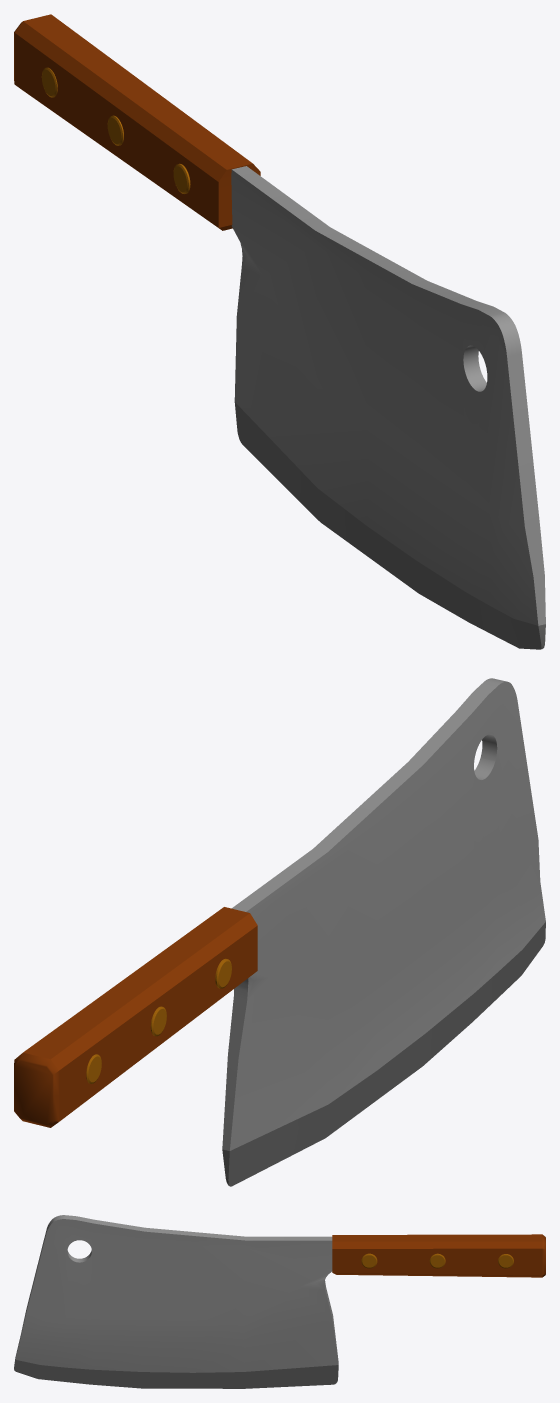
Rendered from Tesak(ZBT).fbx.
3 renders of one model, top to bottom at view 1: azimuth 30°, elevation 25°; view 2: azimuth 150°, elevation 25°; view 3: azimuth 270°, elevation 25°, orthographic. The views are drawn at different scales.
Visible parts, largest first — view 1: Cube.001; view 2: Cube.001; view 3: Cube.001.
Boxes of the visible parts, x1,y1,x2,y2 form: Cube.001: [14, 14, 545, 649]; Cube.001: [14, 678, 545, 1186]; Cube.001: [14, 1215, 545, 1388].
Size of the model in its own units: 31.64 by 212 by 592.
